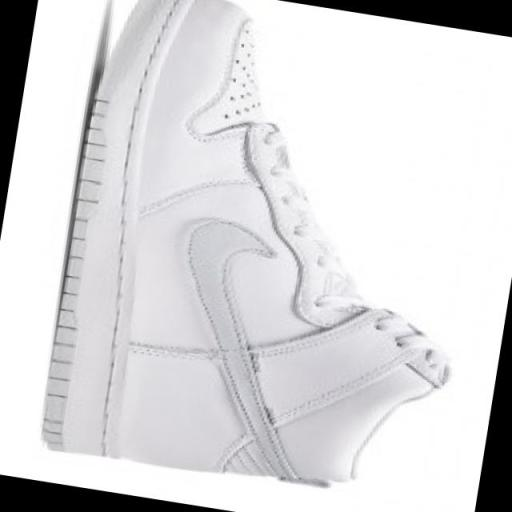Nike: (147, 210, 336, 481)
